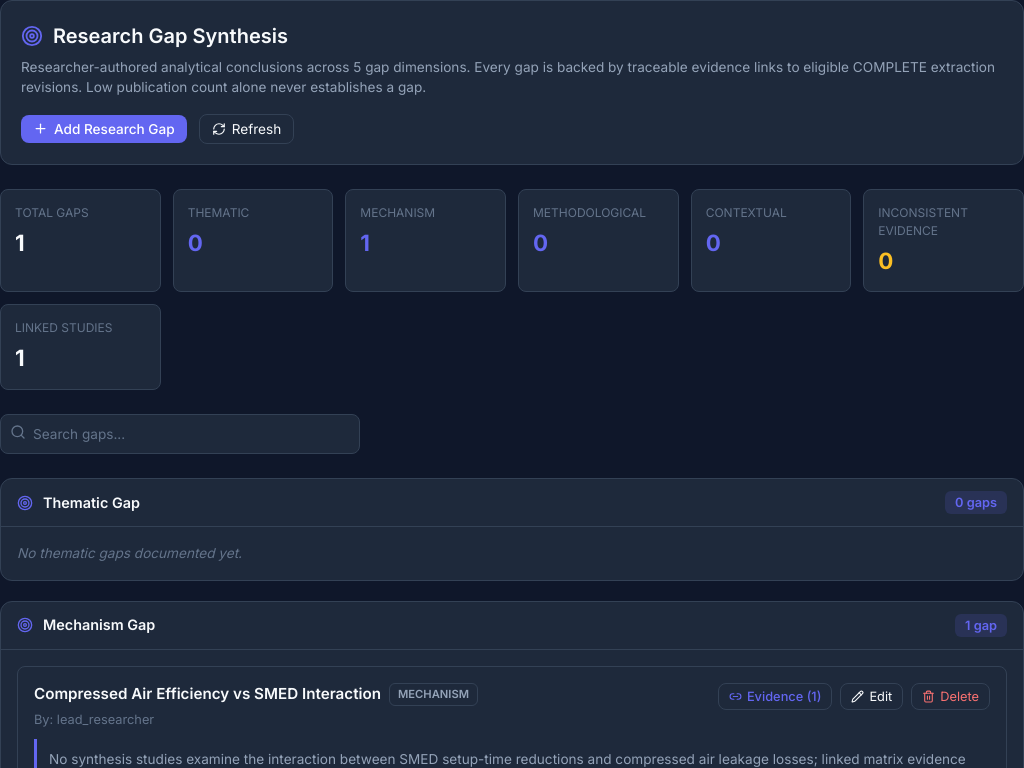
it: ResearchGapsWorkspace Component › rejects gap creation when rationale is empty
Click the button with test id "add-research-gap-btn".
click(104, 129)  # box [21,115,187,143]
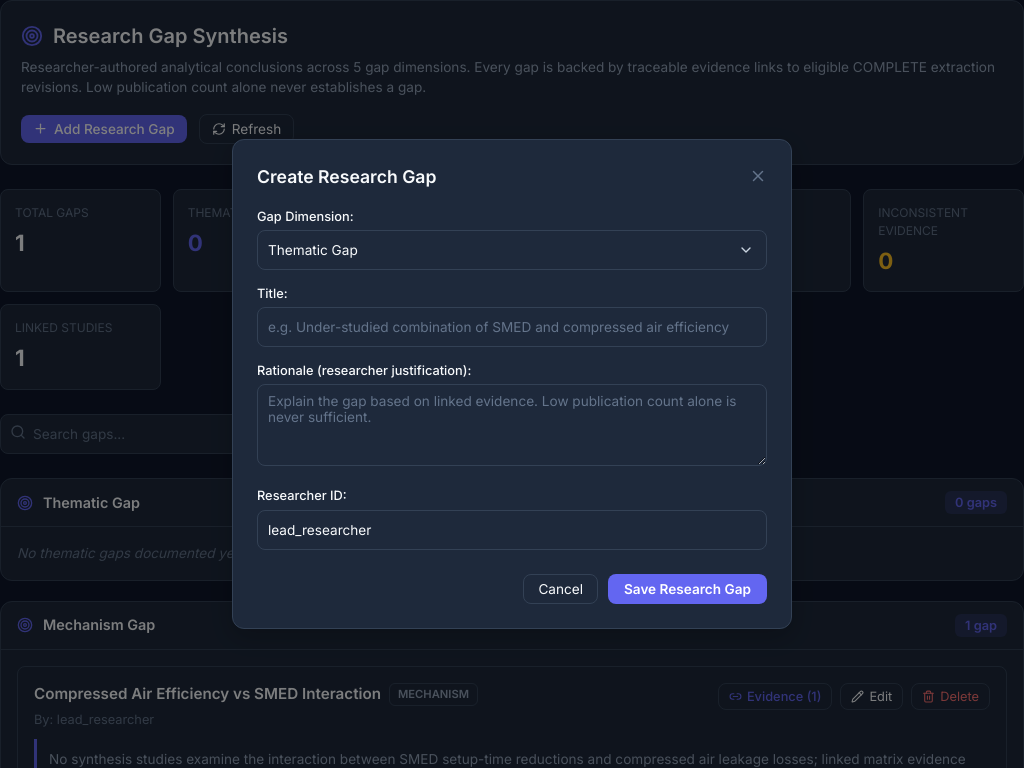
Replace the text in the field with test id "gap-title-input" with "Unjustified Gap" at (512, 327), box [257,307,767,347]
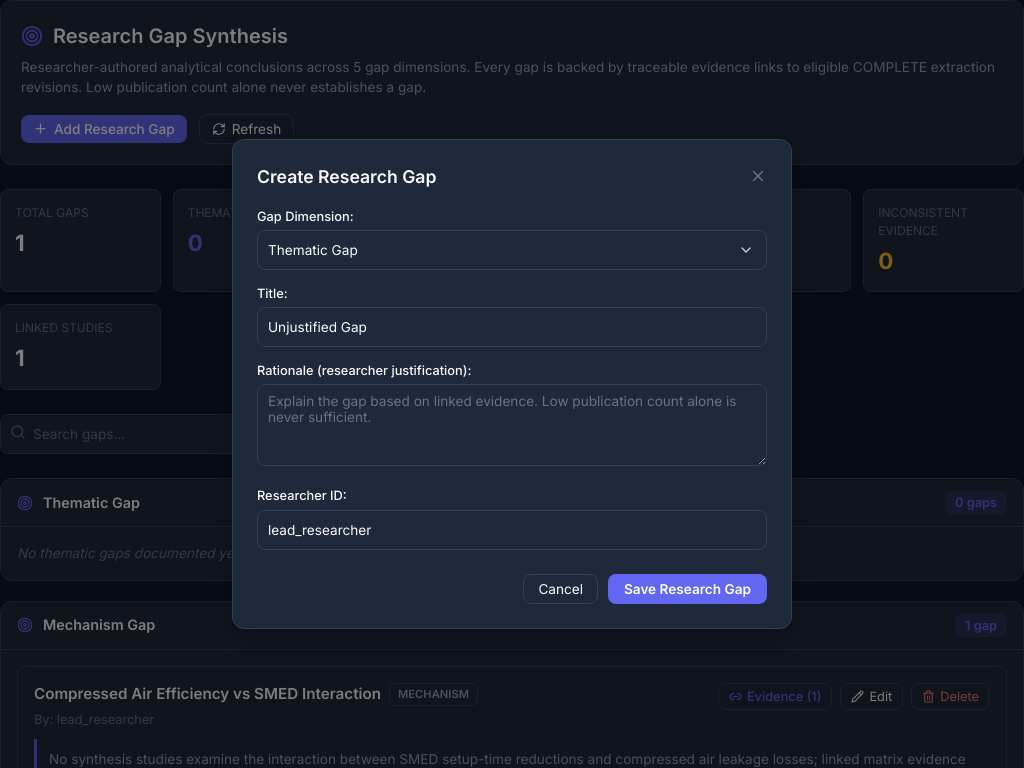
Click the button with test id "save-gap-submit-btn".
click(688, 589)  # box [608,574,767,604]
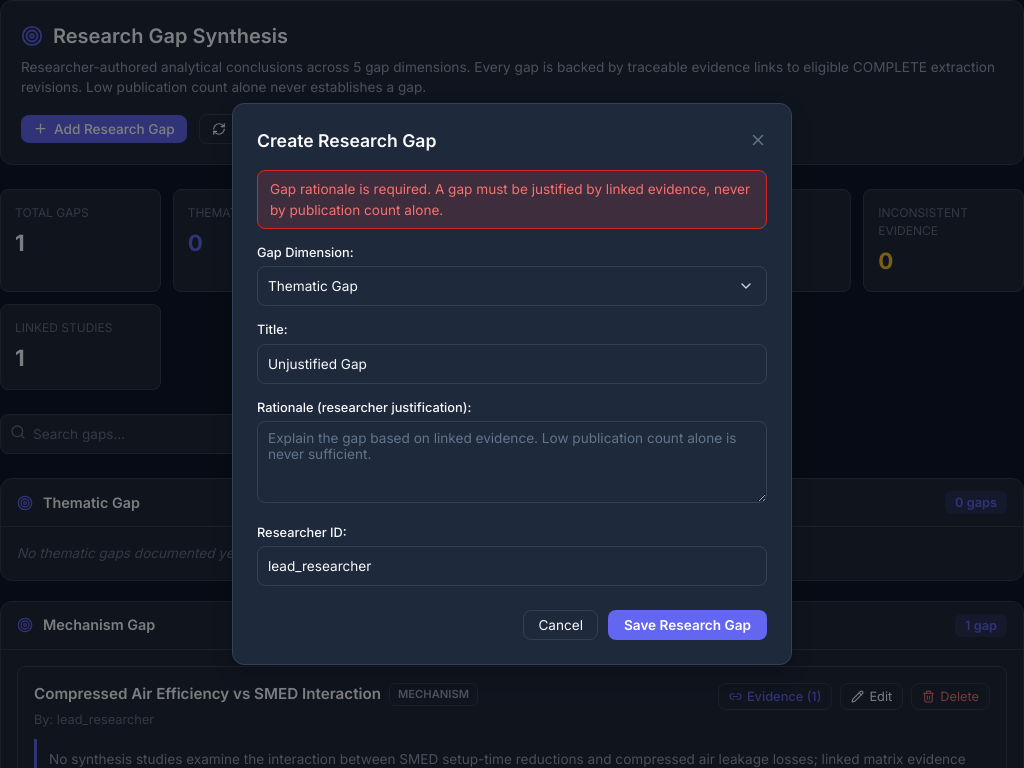
Now the text "never by publication count alone" is shown, box [270,181,750,218]
